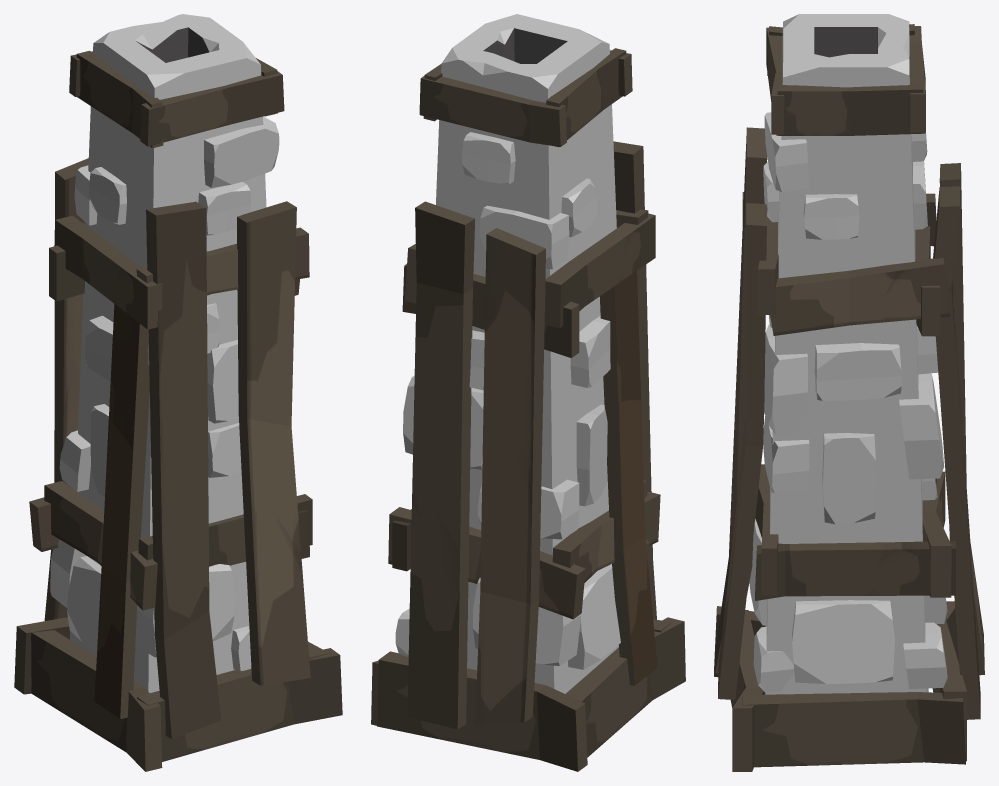
File: SM_Bld_Chimney_01.fbx
The picture shows the model from 3 angles, left to right: view 1: azimuth 30°, elevation 25°; view 2: azimuth 150°, elevation 25°; view 3: azimuth 270°, elevation 25°; orthographic projection. The views are drawn at different scales.
Visible parts, largest first — view 1: SM_Bld_Chimney_01; view 2: SM_Bld_Chimney_01; view 3: SM_Bld_Chimney_01.
Part boxes in pixels (x1,y1,x2,y2): SM_Bld_Chimney_01: (14, 14, 342, 771); SM_Bld_Chimney_01: (371, 14, 685, 771); SM_Bld_Chimney_01: (714, 14, 984, 771).
Bounding box in the file's own units: 151 × 437 × 158.
